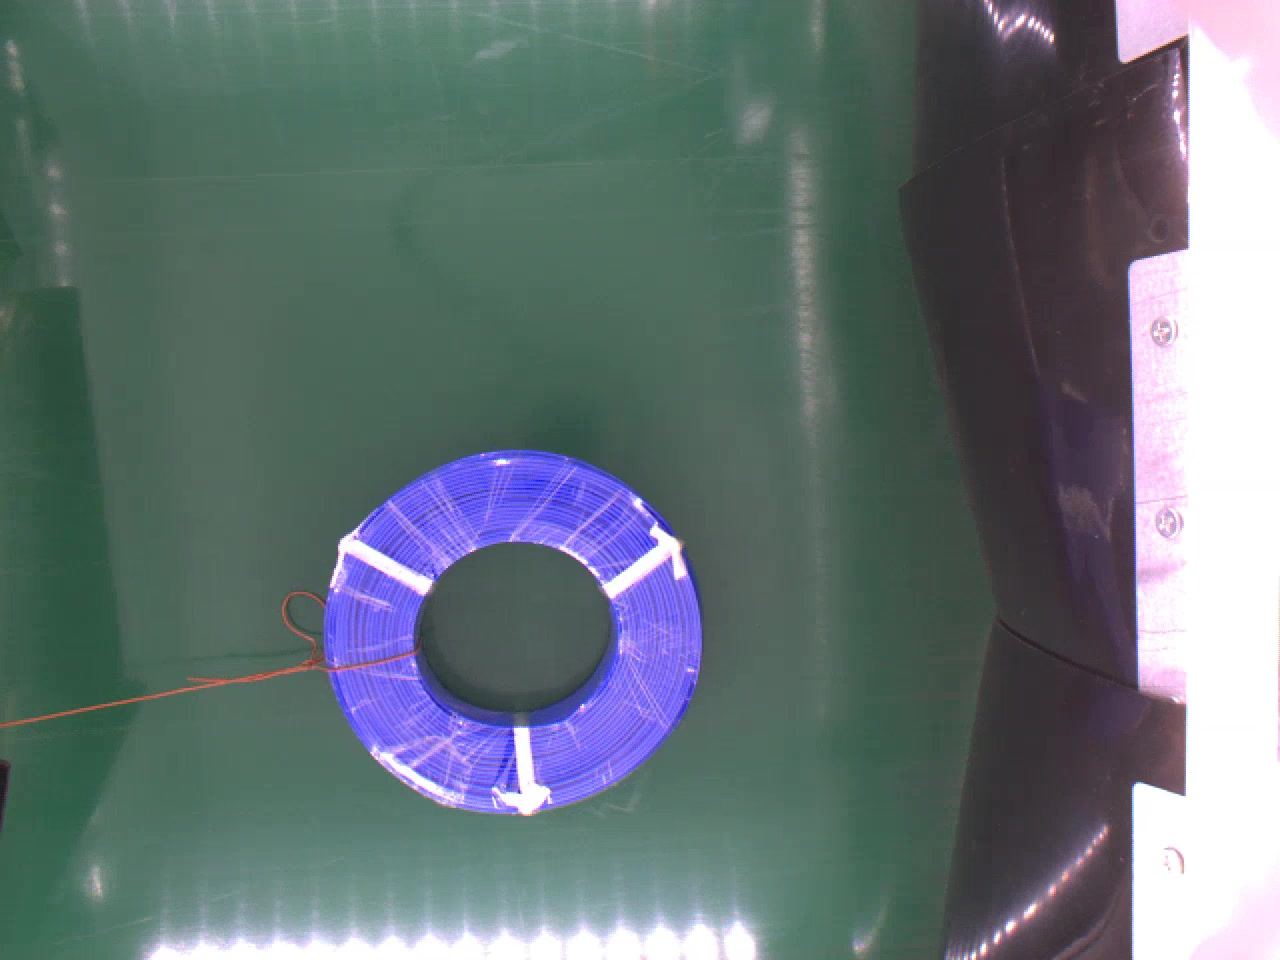blue: (321, 440, 700, 814)
